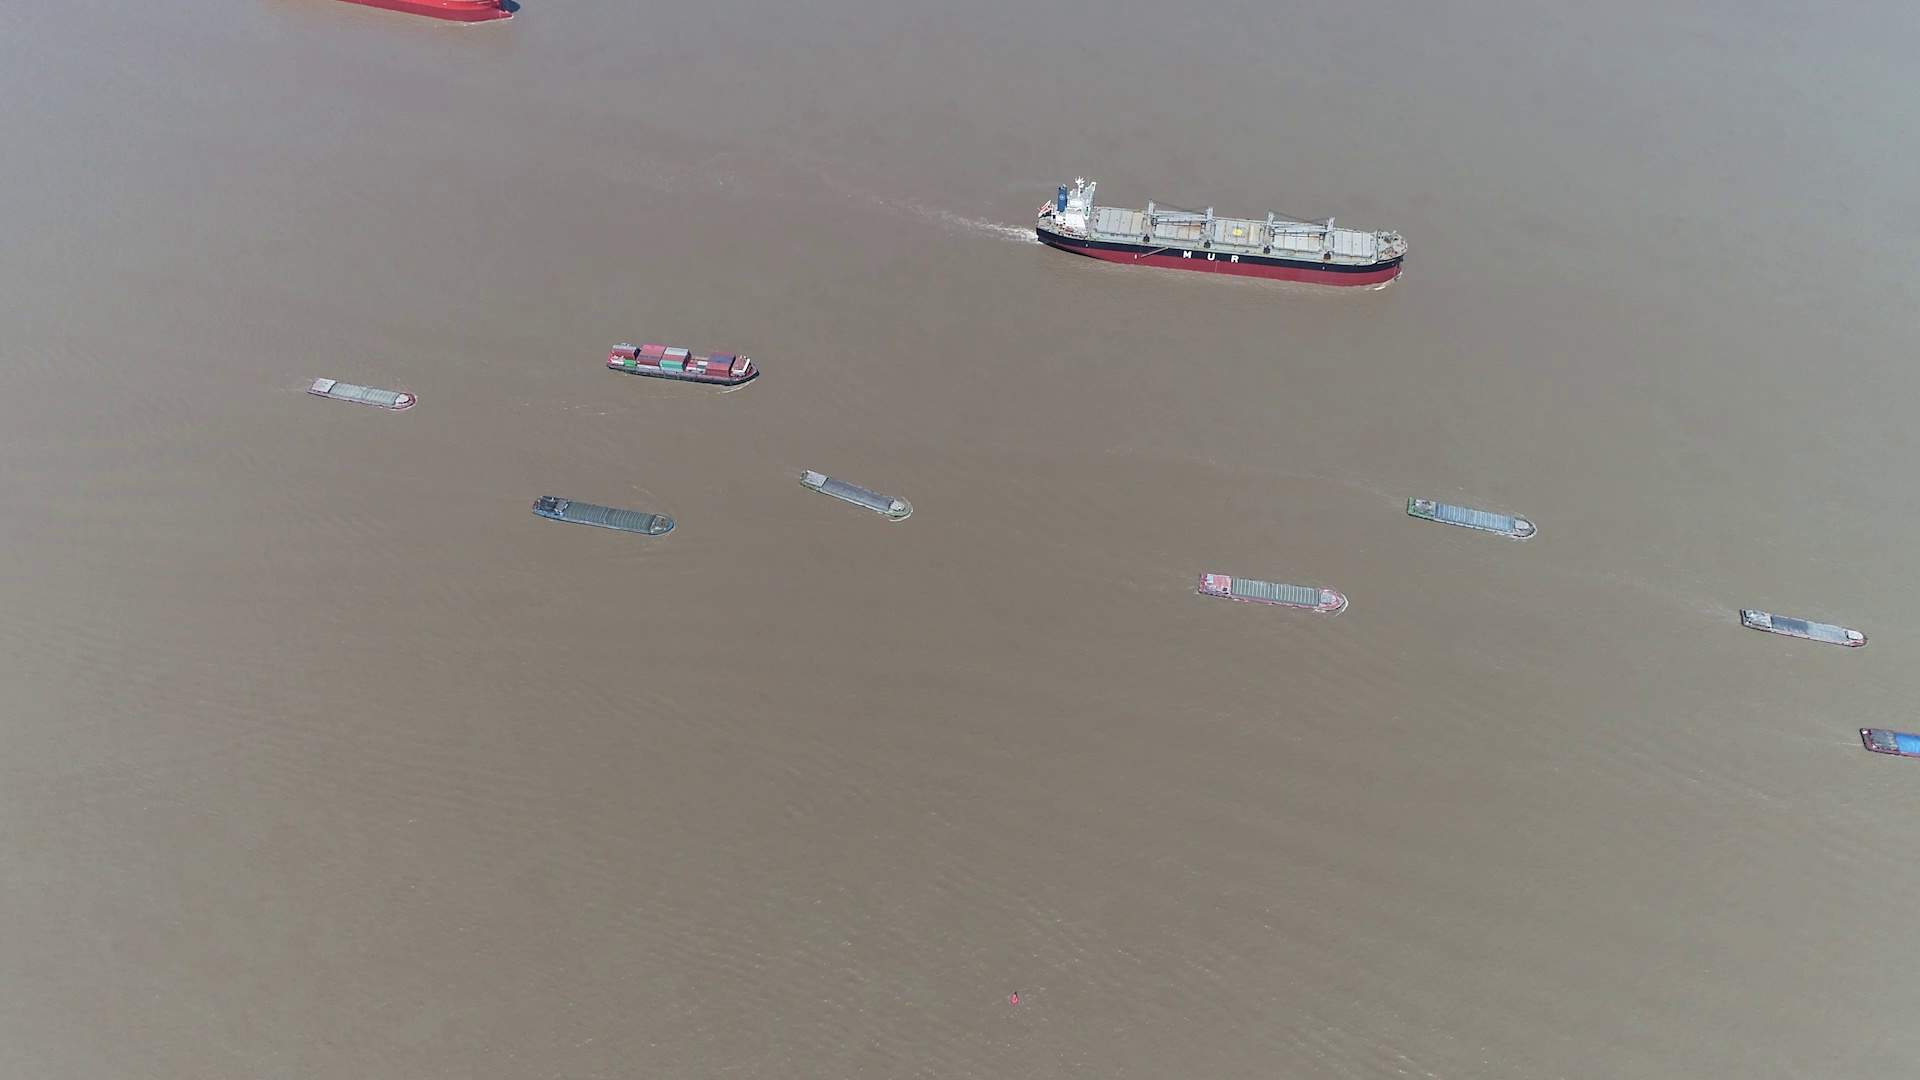ship: (1040, 185, 1406, 286), (608, 340, 762, 386), (1197, 572, 1348, 613), (1404, 497, 1538, 542), (534, 497, 675, 538), (800, 469, 913, 521), (1735, 607, 1867, 647), (309, 377, 417, 411), (1859, 728, 1920, 760)
